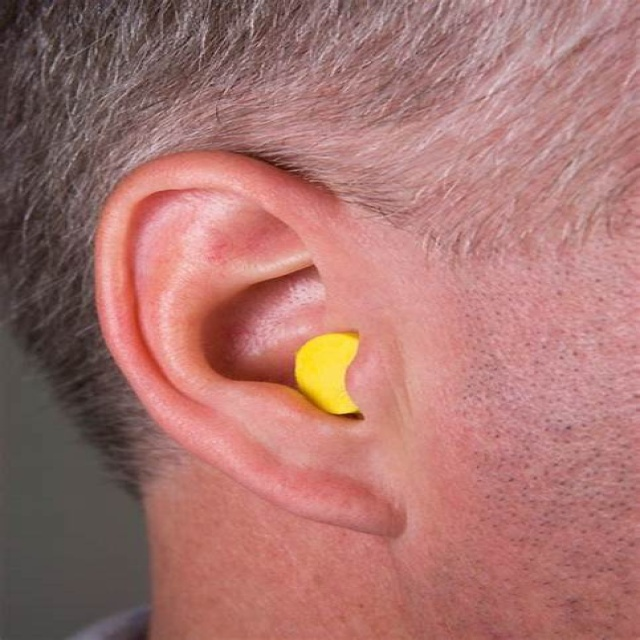Hearing_Protection: (274, 323, 357, 402)
